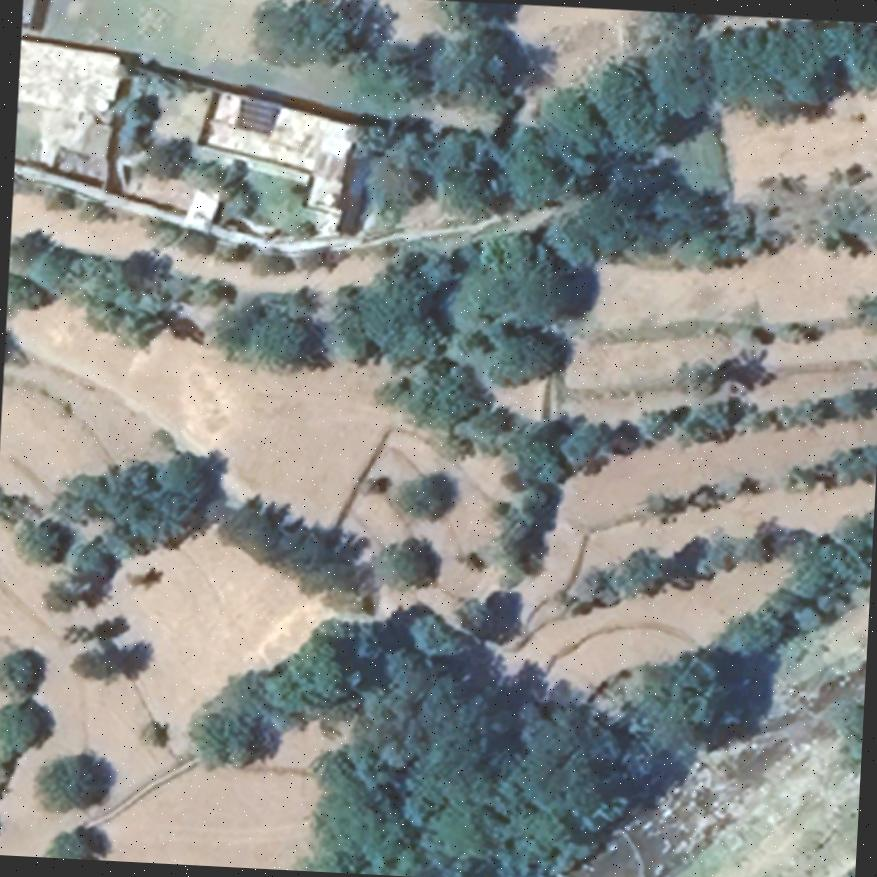Solarpanel: (232, 94, 282, 136)
